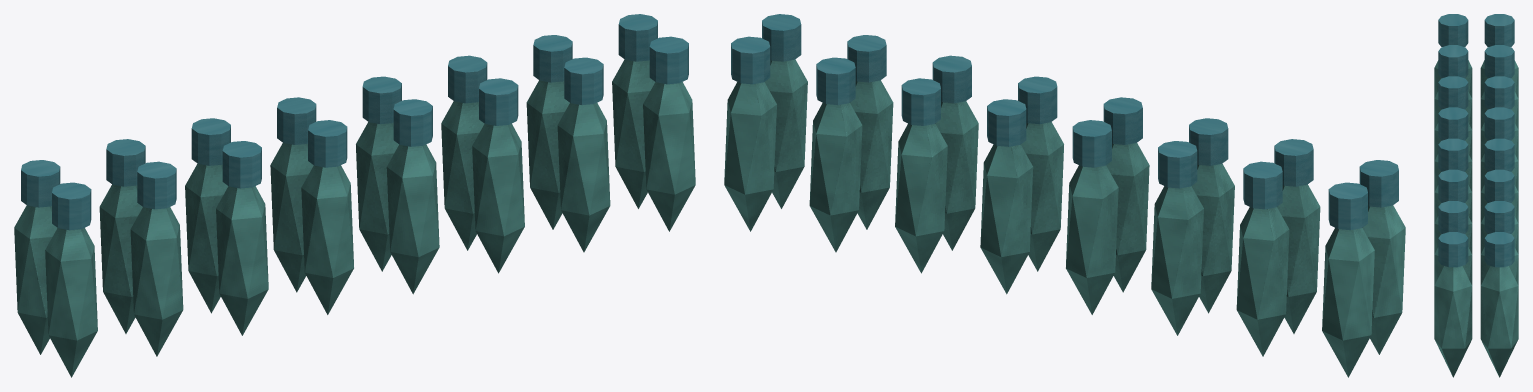
The model's file is base_crop_shine.glb.
3 views of the same model, side by side, from view 1: azimuth 30°, elevation 25°; view 2: azimuth 150°, elevation 25°; view 3: azimuth 270°, elevation 25° (orthographic). The views are drawn at different scales.
Visible parts, largest first — view 1: base_crop_shine; view 2: base_crop_shine; view 3: base_crop_shine.
Part boxes in pixels (x1=…): base_crop_shine: x1=14, y1=14, x2=695, y2=377; base_crop_shine: x1=724, y1=14, x2=1405, y2=377; base_crop_shine: x1=1434, y1=14, x2=1518, y2=377.
Bounding box in the file's own units: 4.81 × 1.33 × 0.7266.
2 materials, 2 textured.
